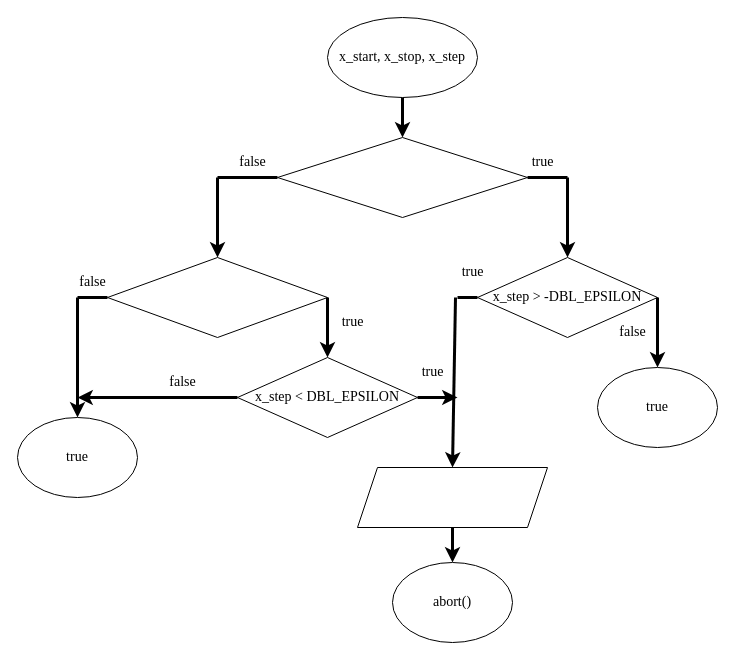
The diagram is 735 pixels wide and 660 high, and some of its shapes have lost their labels. Each missing label, with the centre of its shape:
"Inserted a wrong arguments!": [452,497]
x_stop - x_start < DBL_EPSILON: [402,177]
x_stop - x_start > -DBL_EPSILON: [217,297]
